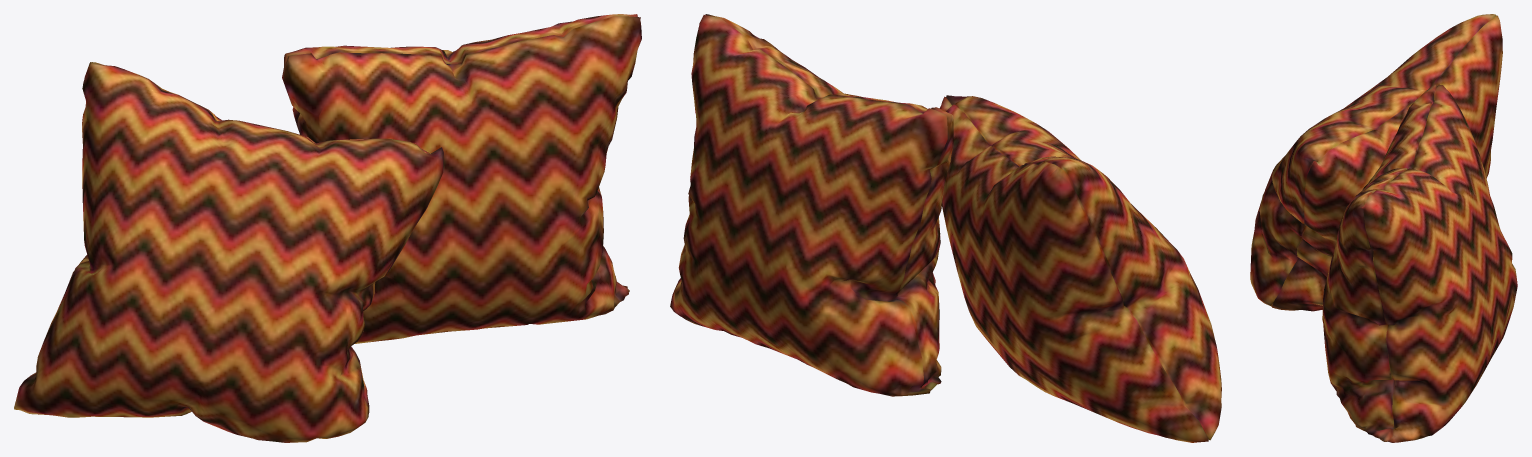
File: throw_pillows_01.glb
The picture shows the model from 3 angles, left to right: view 1: azimuth 30°, elevation 25°; view 2: azimuth 150°, elevation 25°; view 3: azimuth 270°, elevation 25°; orthographic projection. The views are drawn at different scales.
Visible parts, largest first — view 1: c03_feather, c00_feather, c01_feather, c02_feather; view 2: c01_feather, c02_feather, c03_feather, c00_feather; view 3: c01_feather, c00_feather, c02_feather, c03_feather.
Part boxes in pixels (x1,y1,x2,y2): c03_feather: (14,62,443,442); c00_feather: (283,16,641,343); c01_feather: (282,14,637,288); c02_feather: (20,62,443,414); c01_feather: (670,14,947,396); c02_feather: (939,96,1208,442); c03_feather: (946,95,1221,440); c00_feather: (705,14,953,390); c01_feather: (1361,84,1517,442); c00_feather: (1322,84,1437,441); c02_feather: (1271,15,1502,311); c03_feather: (1250,14,1496,306).
Size of the model in its own units: 0.9401 by 0.4502 by 0.4519.
Materials: 1 (1 with a texture image).
